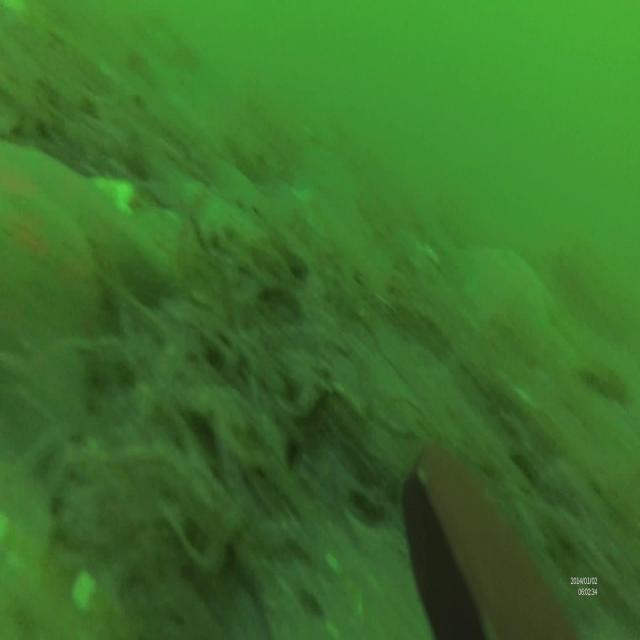echinus: (350, 489, 378, 526), (286, 436, 302, 468)
holothurian: (583, 359, 628, 406)
scallop: (70, 573, 97, 613)
starfish: (1, 134, 182, 442), (460, 240, 558, 348)
